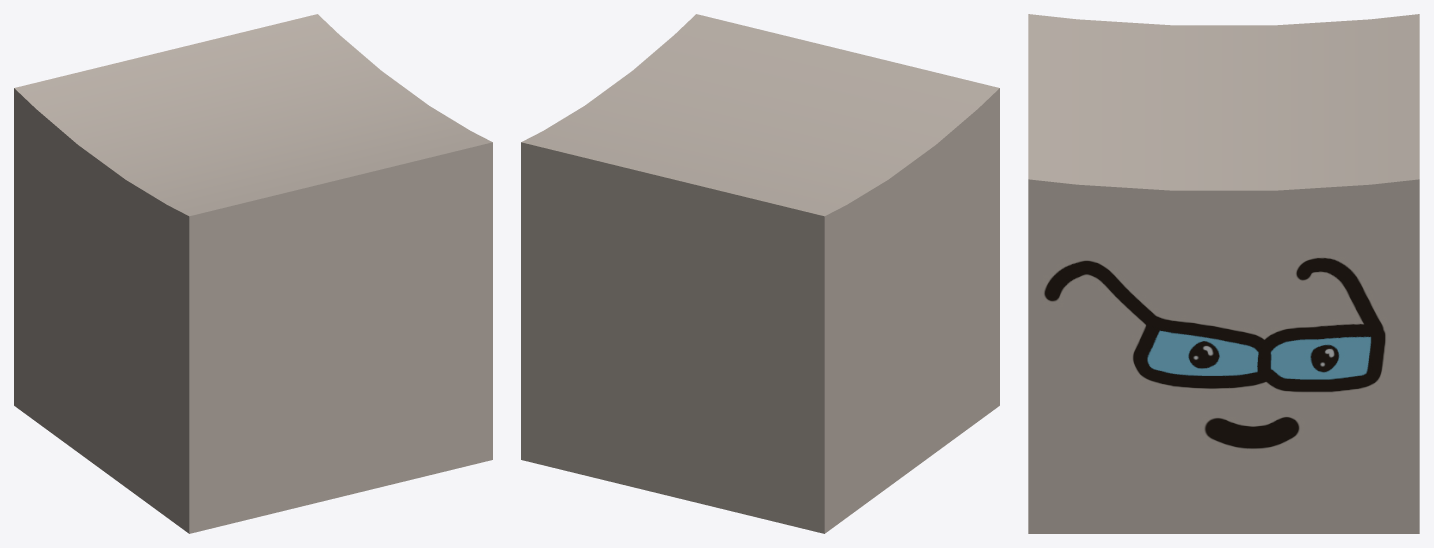
Rendered from glasses.fbx.
3 views of the same model, side by side, from view 1: azimuth 30°, elevation 25°; view 2: azimuth 150°, elevation 25°; view 3: azimuth 270°, elevation 25° (orthographic). The views are drawn at different scales.
Visible parts, largest first — view 1: Cube; view 2: Cube; view 3: Cube.
Boxes of the visible parts, <box> form: Cube: <box>14,14,492,533</box>; Cube: <box>521,14,999,533</box>; Cube: <box>1028,14,1419,533</box>.
Size of the model in its own units: 200 by 200 by 200.
1 material, 1 textured.
